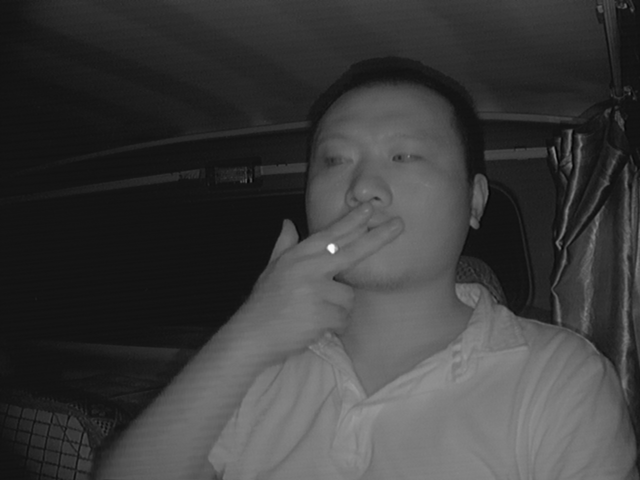hand: (288, 206, 402, 331)
